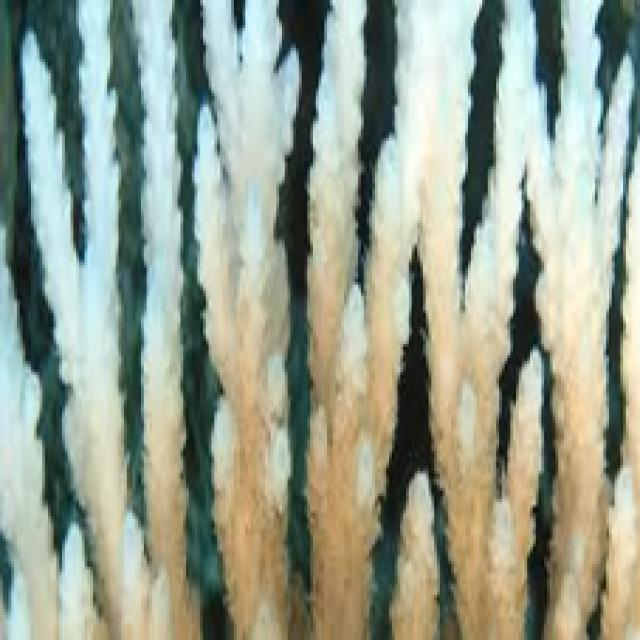Bleached: (195, 1, 307, 640), (206, 1, 293, 640), (61, 1, 131, 599), (309, 1, 372, 640), (132, 1, 191, 571), (549, 1, 598, 640), (415, 255, 510, 558), (1, 226, 51, 640), (399, 1, 477, 250), (359, 135, 413, 494), (582, 52, 640, 354), (476, 3, 539, 277), (24, 34, 80, 328), (392, 470, 445, 640), (499, 352, 547, 526), (113, 510, 173, 640), (596, 470, 640, 640), (618, 139, 640, 478), (482, 495, 528, 640), (52, 517, 100, 640), (451, 542, 496, 640), (164, 571, 197, 640)
